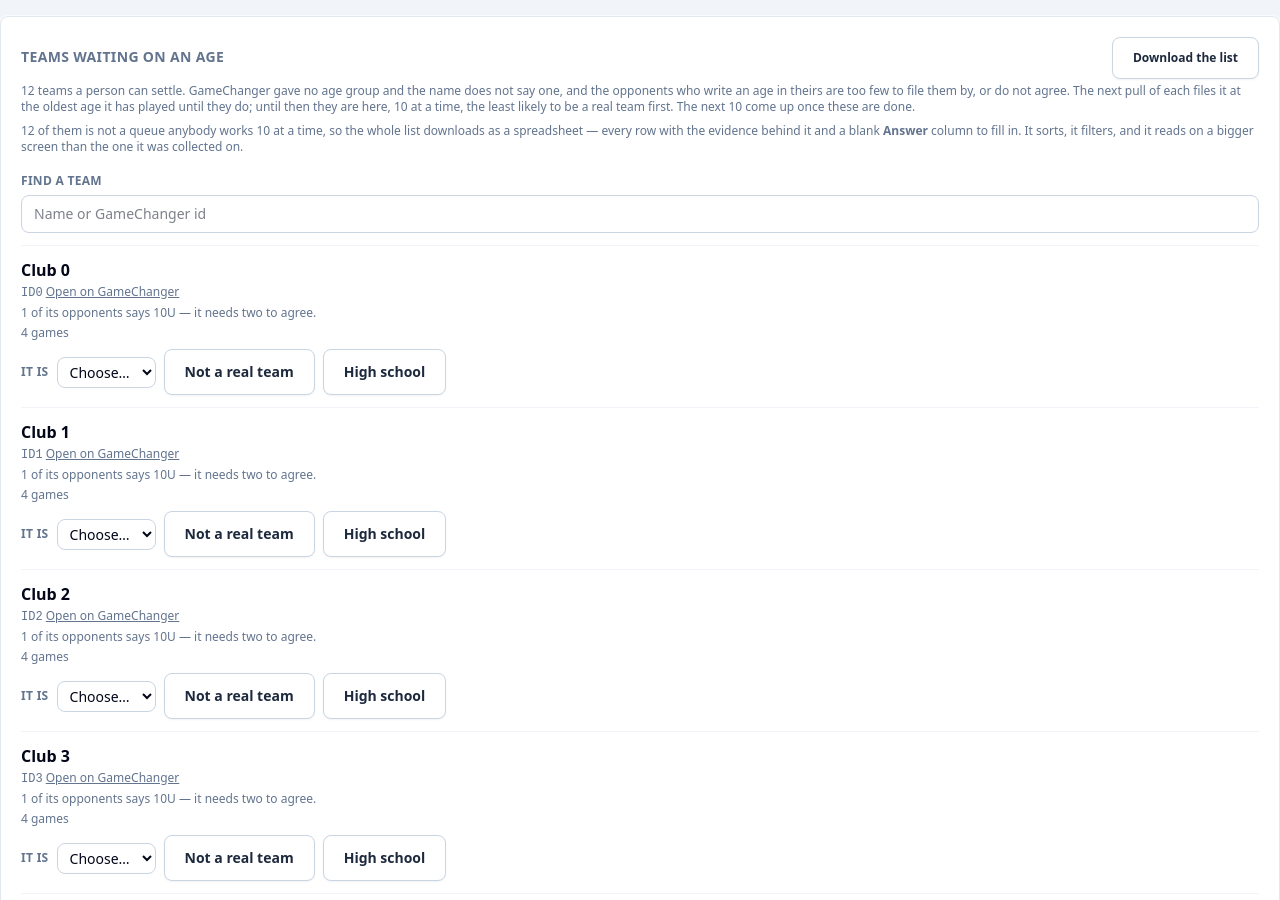
Test case: the review card for teams waiting on an age › leaves a team with fewer than nine players off the list, and says why when it is found
The width and height of the screenshot is (1280, 900).
Check: the text "Riverdogs 10U" is not shown
In the search field labelled "Find a team": (640, 214) [21, 195, 1259, 233], type "Riverdogs"
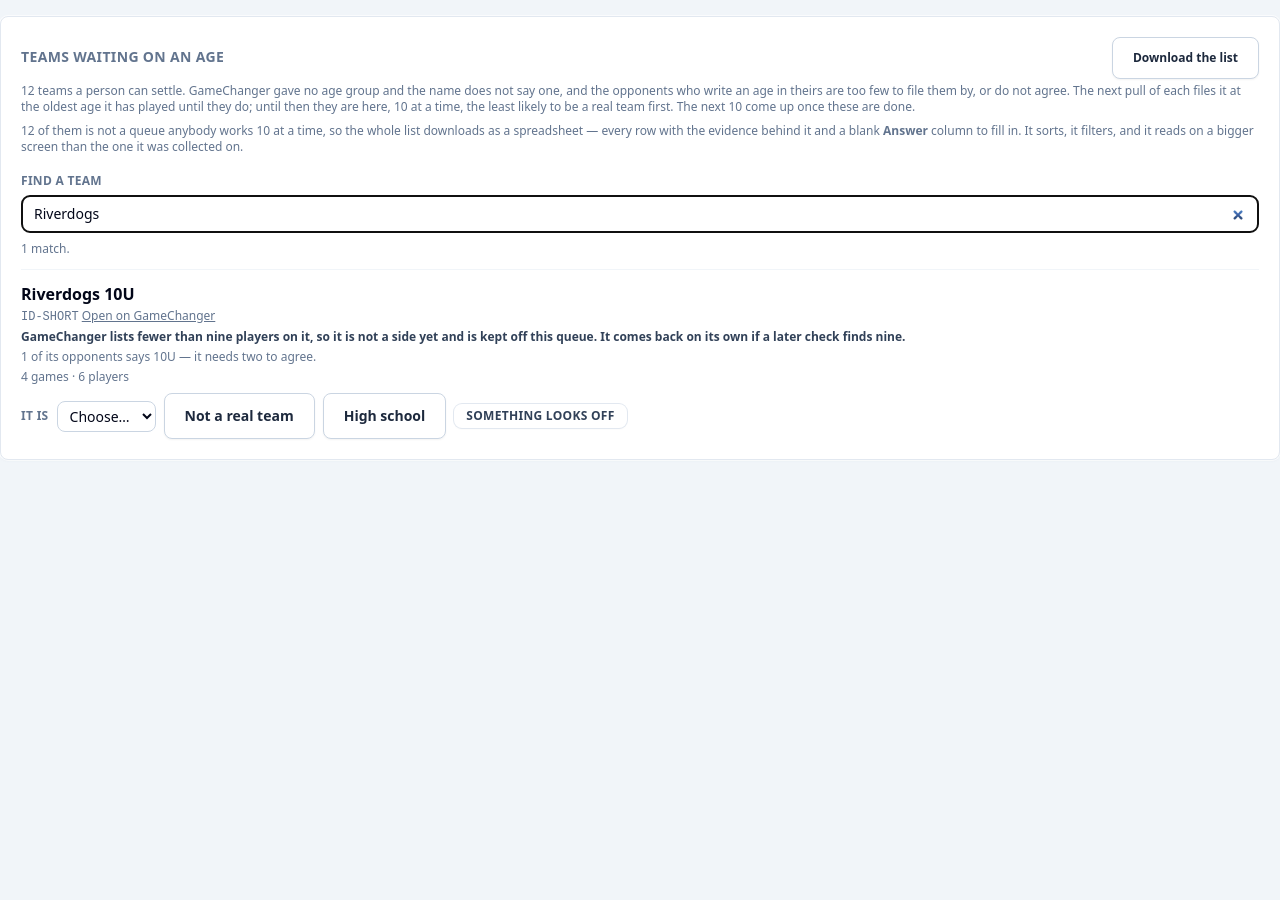
Check: the text "Riverdogs 10U" is shown, box [21, 283, 135, 305]
Check: the text "lists fewer than nine players on it" is shown, box [21, 328, 906, 345]
